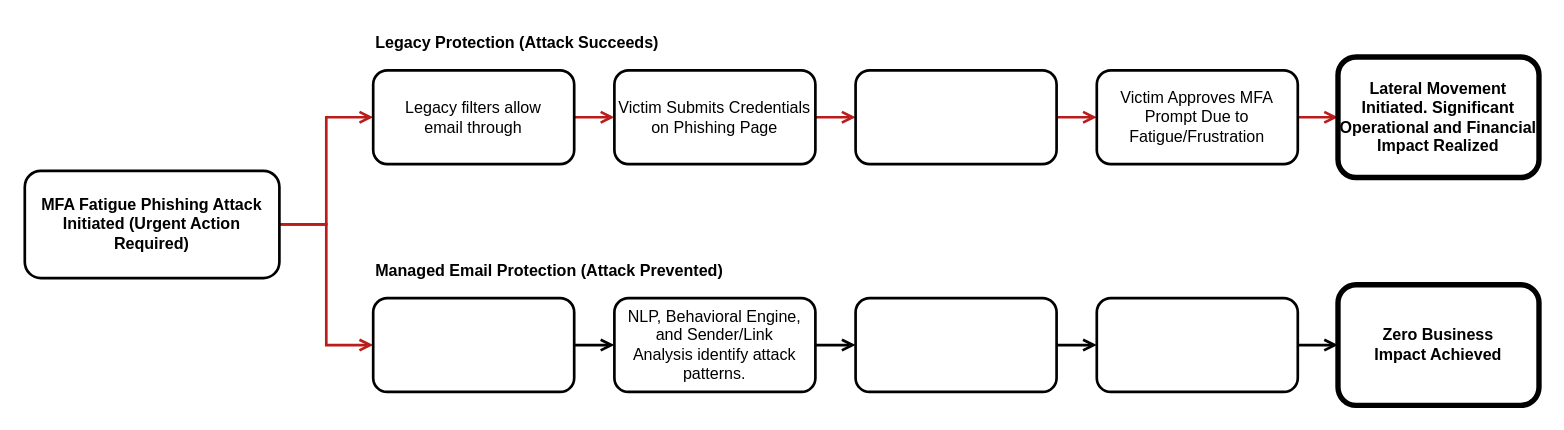
Image size: 1564x430. Some labels were removed from this diagram. The shapes that lost their labels are listed below. From the top down, each one's centre as x and y in pixels, then its label:
(955,116): Attacker Bombards Victim with MFA Push Notifications
(473,344): Email Analysed by Managed Email Service
(955,344): Message Flagged as High-Risk
(1196,344): Zero-User Interaction Mitigation Achieved
